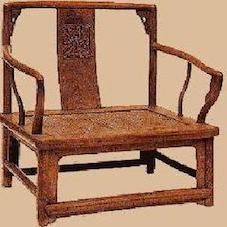chair: (0, 3, 216, 216)
